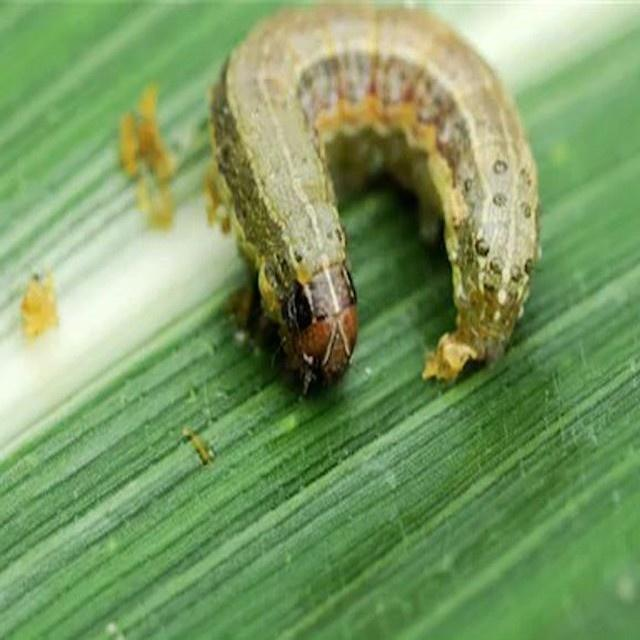gusano_cogollero: (199, 0, 541, 397)
